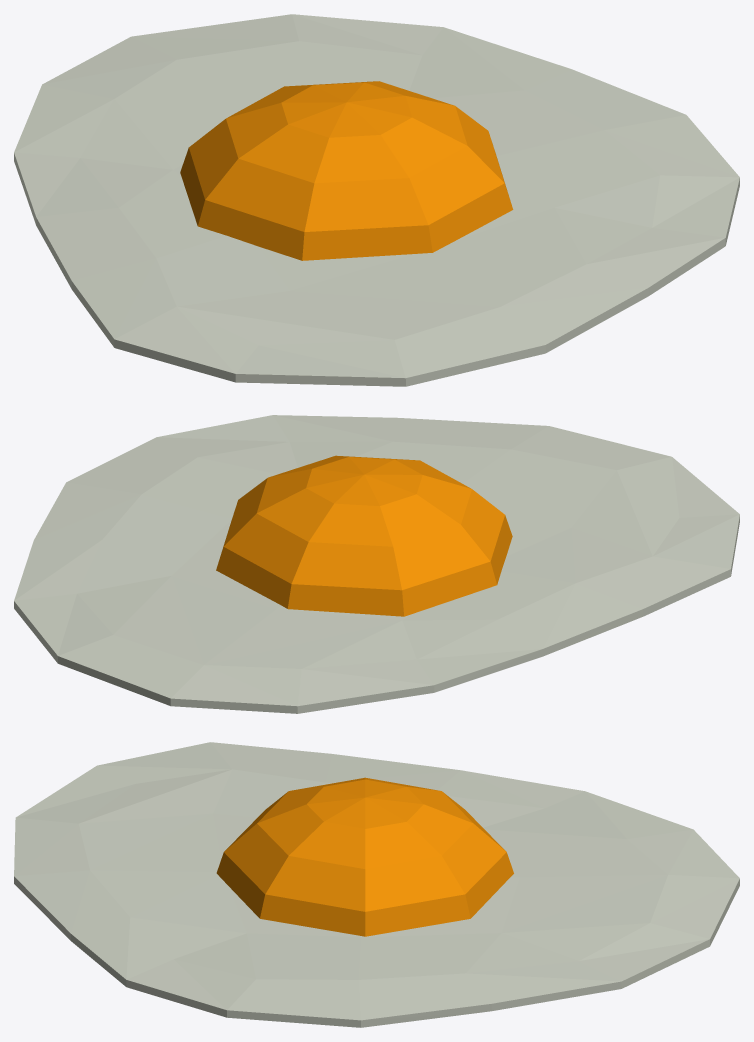
The model's file is EggSplat.glb.
3 renders of one model, top to bottom at view 1: azimuth 30°, elevation 25°; view 2: azimuth 150°, elevation 25°; view 3: azimuth 270°, elevation 25°, orthographic. The views are drawn at different scales.
Parts seen in each view (by area): view 1: Node; view 2: Node; view 3: Node.
Boxes of the visible parts, x1=… form: Node: x1=14, y1=14, x2=739, y2=386; Node: x1=14, y1=415, x2=739, y2=713; Node: x1=14, y1=742, x2=739, y2=1027.
Size of the model in its own units: 3.53 by 0.541 by 3.89.
